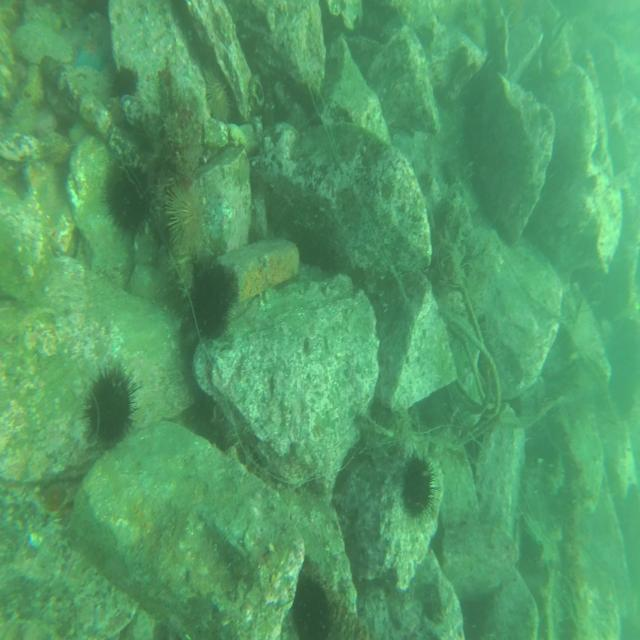echinus: (86, 366, 134, 446), (167, 182, 210, 258), (189, 263, 231, 339), (110, 165, 150, 234), (293, 577, 332, 640), (402, 454, 434, 514), (203, 71, 233, 125), (112, 65, 138, 101)
starfish: (74, 32, 105, 73)
